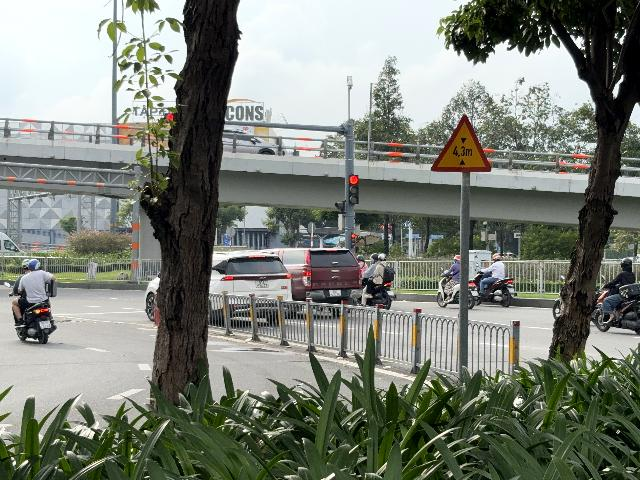chieu-cao-tinh-khong-thuc-te: (430, 114, 492, 172)
